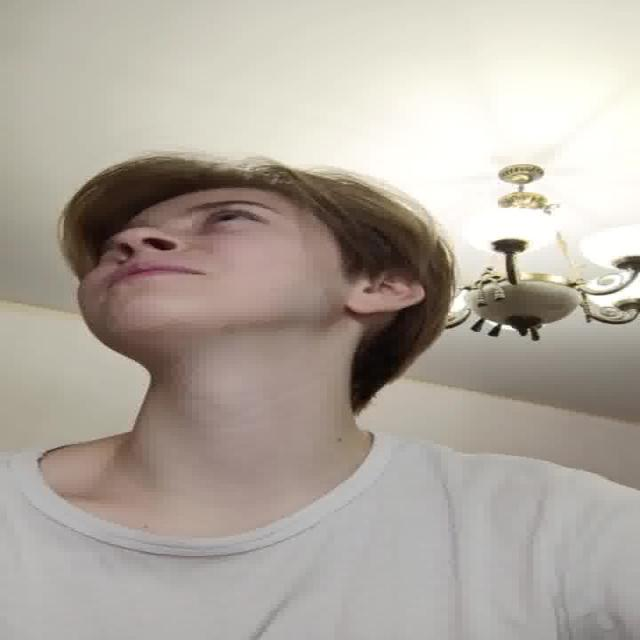earlobe: (347, 264, 425, 314)
